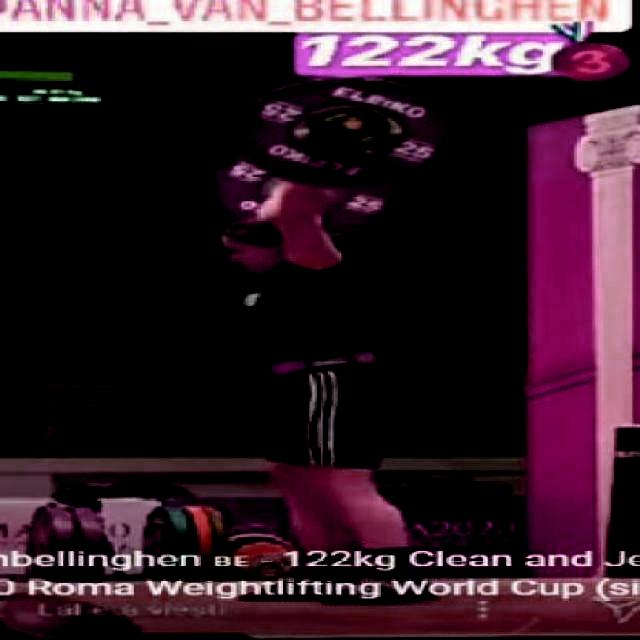barbell: (220, 71, 479, 192)
